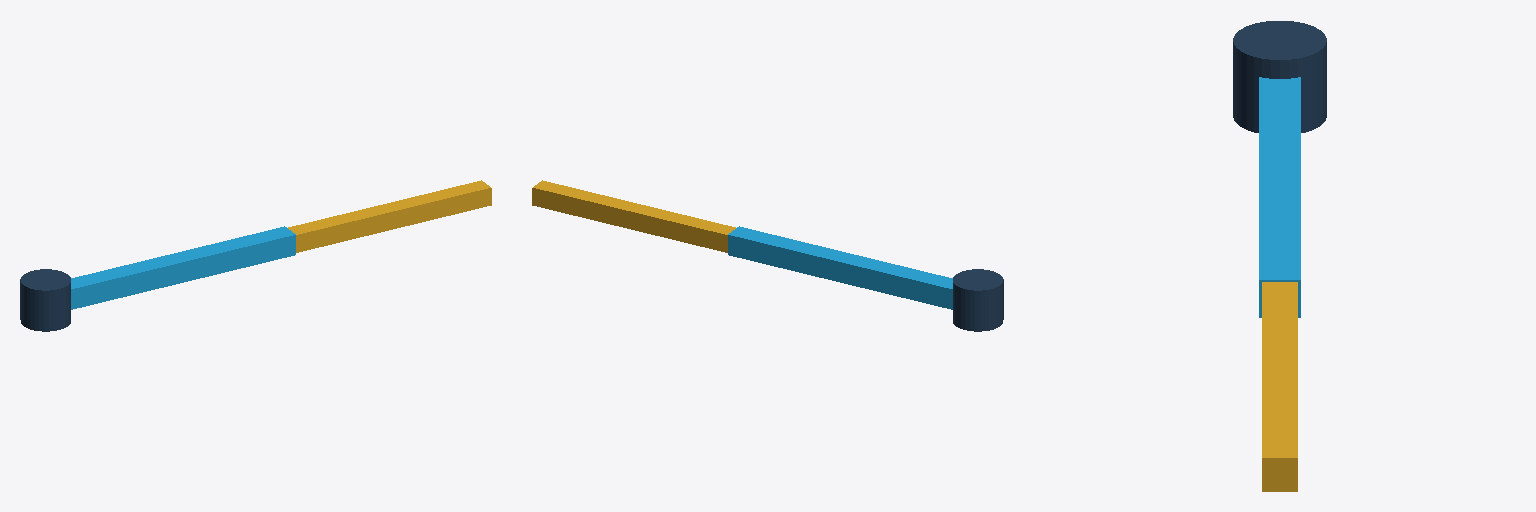
robot.urdf — portfolio_planar_arm:
<?xml version="1.0"?>
<robot name="portfolio_planar_arm">
 <link name="base"><inertial><mass value="1"/><inertia ixx="0.01" iyy="0.01" izz="0.01" ixy="0" ixz="0" iyz="0"/></inertial><visual><geometry><cylinder radius="0.09" length="0.16"/></geometry><material name="base"><color rgba="0.2 0.3 0.4 1"/></material></visual></link>
 <link name="link1"><inertial><origin xyz="0.5 0 0"/><mass value="1"/><inertia ixx="0.002" iyy="0.084" izz="0.084" ixy="0" ixz="0" iyz="0"/></inertial><visual><origin xyz="0.5 0 0"/><geometry><box size="1 0.08 0.08"/></geometry><material name="blue"><color rgba="0.2 0.7 0.9 1"/></material></visual><collision><origin xyz="0.5 0 0"/><geometry><box size="1 0.08 0.08"/></geometry></collision></link>
 <joint name="shoulder" type="revolute"><parent link="base"/><child link="link1"/><axis xyz="0 0 1"/><limit lower="-2.8" upper="2.8" effort="20" velocity="2"/></joint>
 <link name="link2"><inertial><origin xyz="0.4 0 0"/><mass value="0.8"/><inertia ixx="0.001" iyy="0.043" izz="0.043" ixy="0" ixz="0" iyz="0"/></inertial><visual><origin xyz="0.4 0 0"/><geometry><box size="0.8 0.07 0.07"/></geometry><material name="gold"><color rgba="0.9 0.7 0.2 1"/></material></visual><collision><origin xyz="0.4 0 0"/><geometry><box size="0.8 0.07 0.07"/></geometry></collision></link>
 <joint name="elbow" type="revolute"><origin xyz="1 0 0"/><parent link="link1"/><child link="link2"/><axis xyz="0 0 1"/><limit lower="-2.8" upper="2.8" effort="10" velocity="2"/></joint>
</robot>

--- Render facts (derived) ---
3 views of the same robot in one strip: view 1: azimuth 30°, elevation 25°; view 2: azimuth 150°, elevation 25°; view 3: azimuth 270°, elevation 25° (orthographic).
Model portfolio_planar_arm with 3 links and 2 joints (2 revolute), rooted at base, posed every joint at zero.
Visible links, largest first — view 1: link1, link2, base; view 2: link1, link2, base; view 3: link1, base, link2.
Link boxes in pixels (x1=…): link1: x1=71, y1=226, x2=295, y2=309; link2: x1=288, y1=180, x2=491, y2=252; base: x1=20, y1=269, x2=70, y2=331; link1: x1=728, y1=226, x2=952, y2=309; link2: x1=532, y1=180, x2=735, y2=252; base: x1=953, y1=269, x2=1003, y2=331; link1: x1=1259, y1=77, x2=1300, y2=317; base: x1=1233, y1=21, x2=1326, y2=132; link2: x1=1262, y1=282, x2=1297, y2=491.
Size in the robot's own frame: 1.89 by 0.18 by 0.16 metres.
Geometry: primitives only (box / cylinder / sphere), no mesh files.
